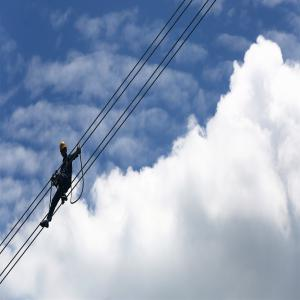yellow: (60, 141, 69, 159)
